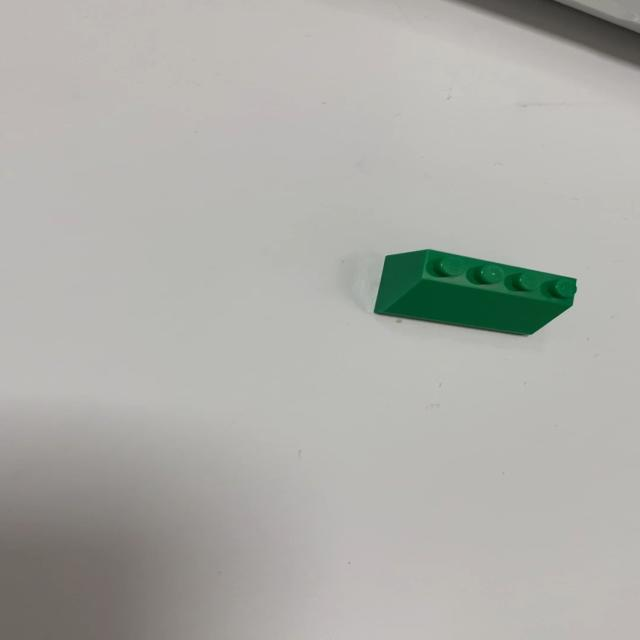P4x2x1: (372, 247, 578, 336)
